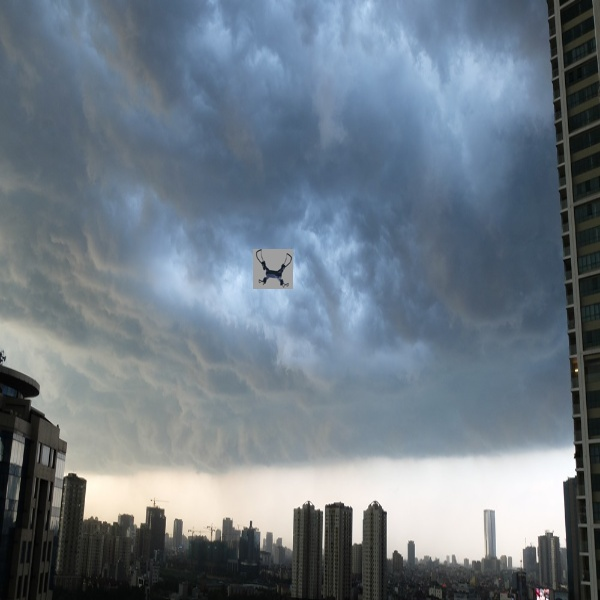drone: (254, 246, 295, 290)
